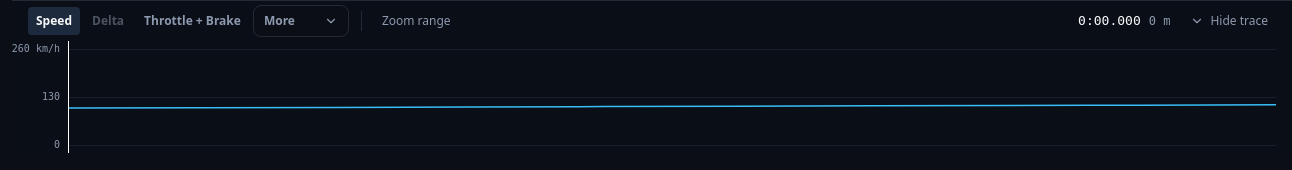
Test: fullscreen map telemetry › shows the reset only after selecting a zoom range
expect the button "Full lap" is not shown: met
Click the button "Zoom range" at (416, 21), box [374,7,459,35]
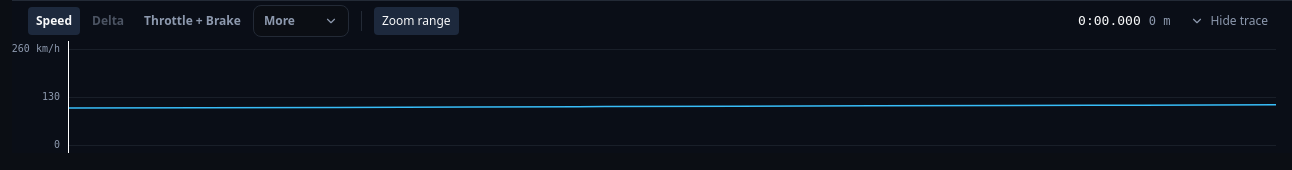
Press the mouse on the element named "Fullscreen telemetry chart" at (672, 97), box [68,41,1276,153]
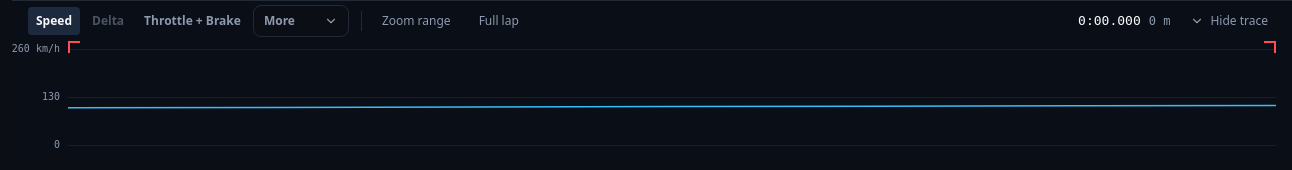
expect the button "Full lap" is shown: met, box [471,7,527,35]
Press the mouse on the element named "Fullscreen telemetry chart" at (672, 97), box [68,41,1276,153]
Click the button "Full lap" at (499, 21), box [471,7,527,35]
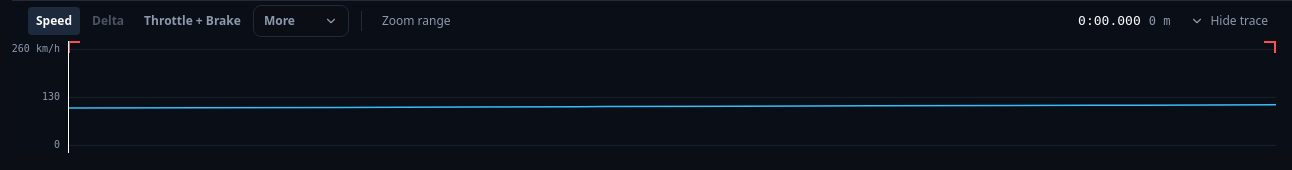
expect the button "Full lap" is gone: met
